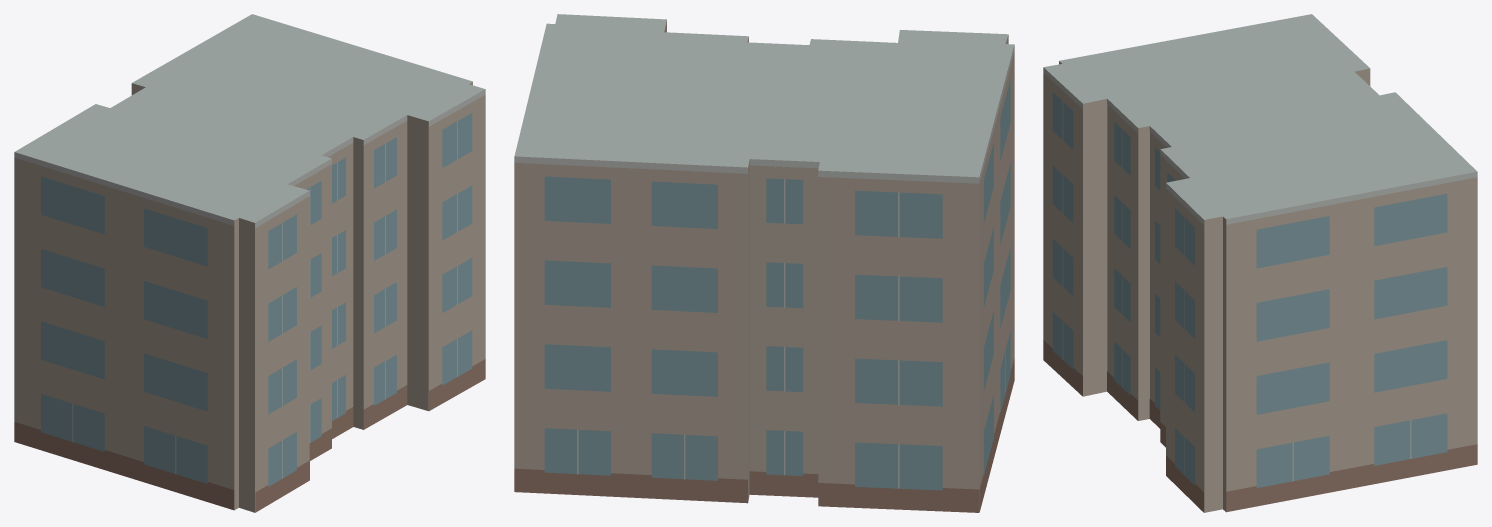
The model's file is survey-upis-32731848.glb.
3 views of the same model, side by side, from view 1: azimuth 30°, elevation 25°; view 2: azimuth 150°, elevation 25°; view 3: azimuth 270°, elevation 25° (orthographic). The views are drawn at different scales.
Parts seen in each view (by area): view 1: survey-upis-32731848.tmp; view 2: survey-upis-32731848.tmp; view 3: survey-upis-32731848.tmp.
Part boxes in pixels (<box>): survey-upis-32731848.tmp: <box>14,14,485,512</box>; survey-upis-32731848.tmp: <box>514,14,1014,512</box>; survey-upis-32731848.tmp: <box>1043,14,1477,512</box>.
Size of the model in its own units: 19.46 by 12.9 by 17.34.
